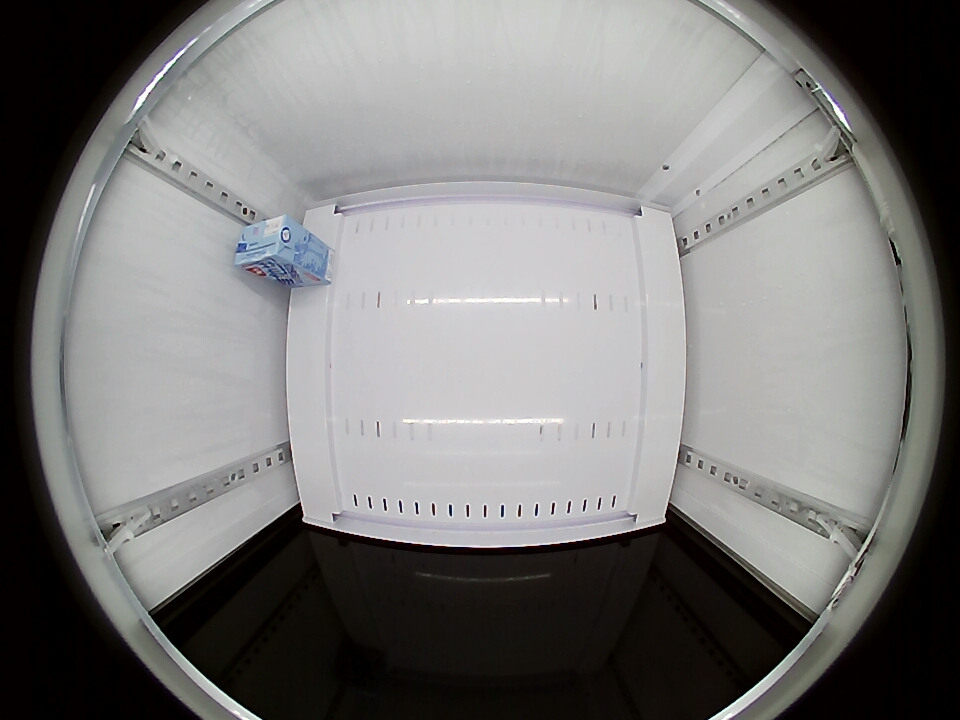weitanaiditang: (234, 214, 303, 275)
